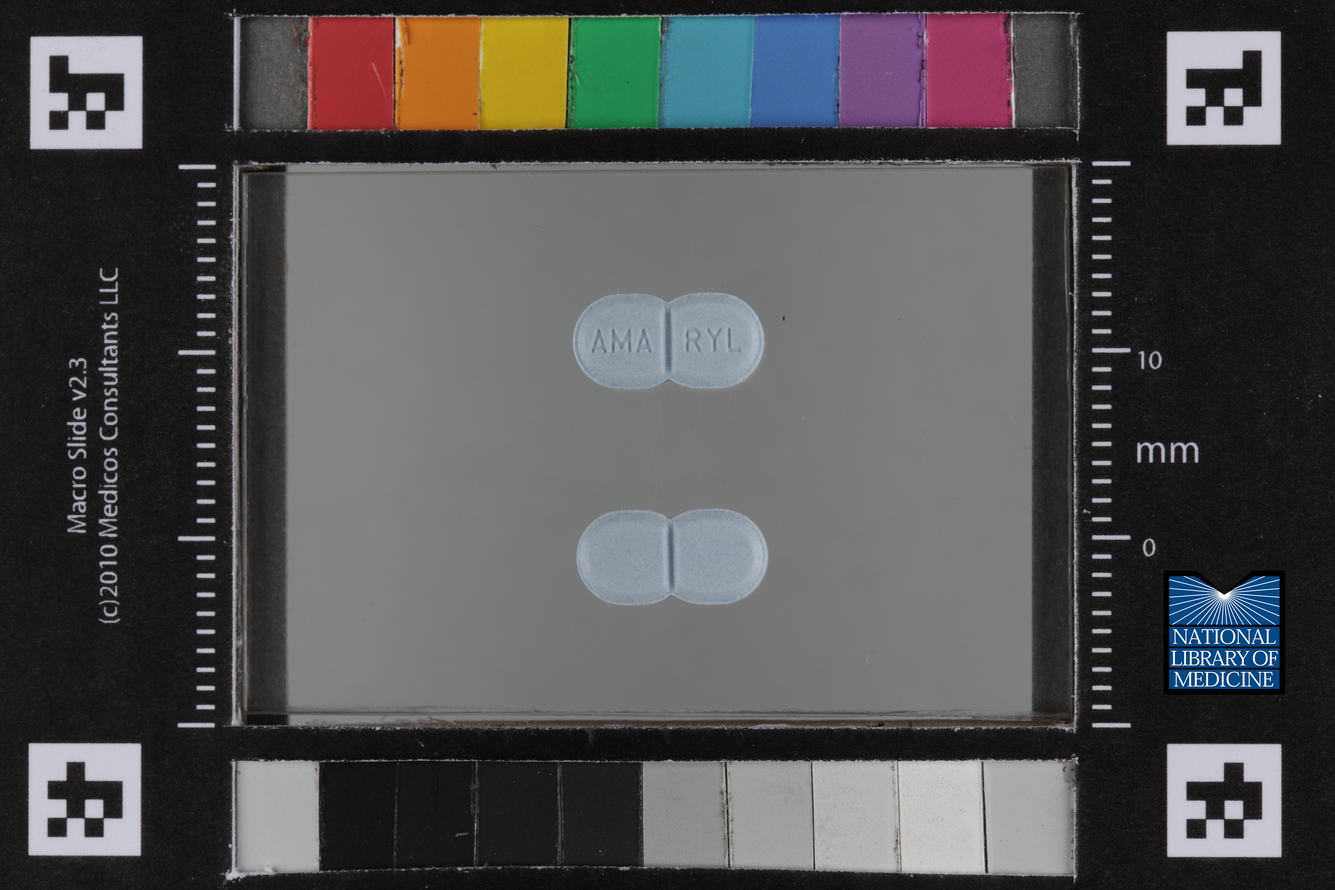Pill: (563, 497, 776, 618), (561, 281, 774, 401)
